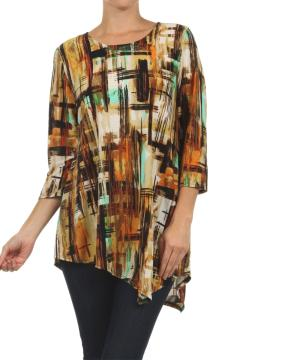C_W_pants: (53, 231, 185, 360)
C_blouse: (33, 21, 215, 315)
